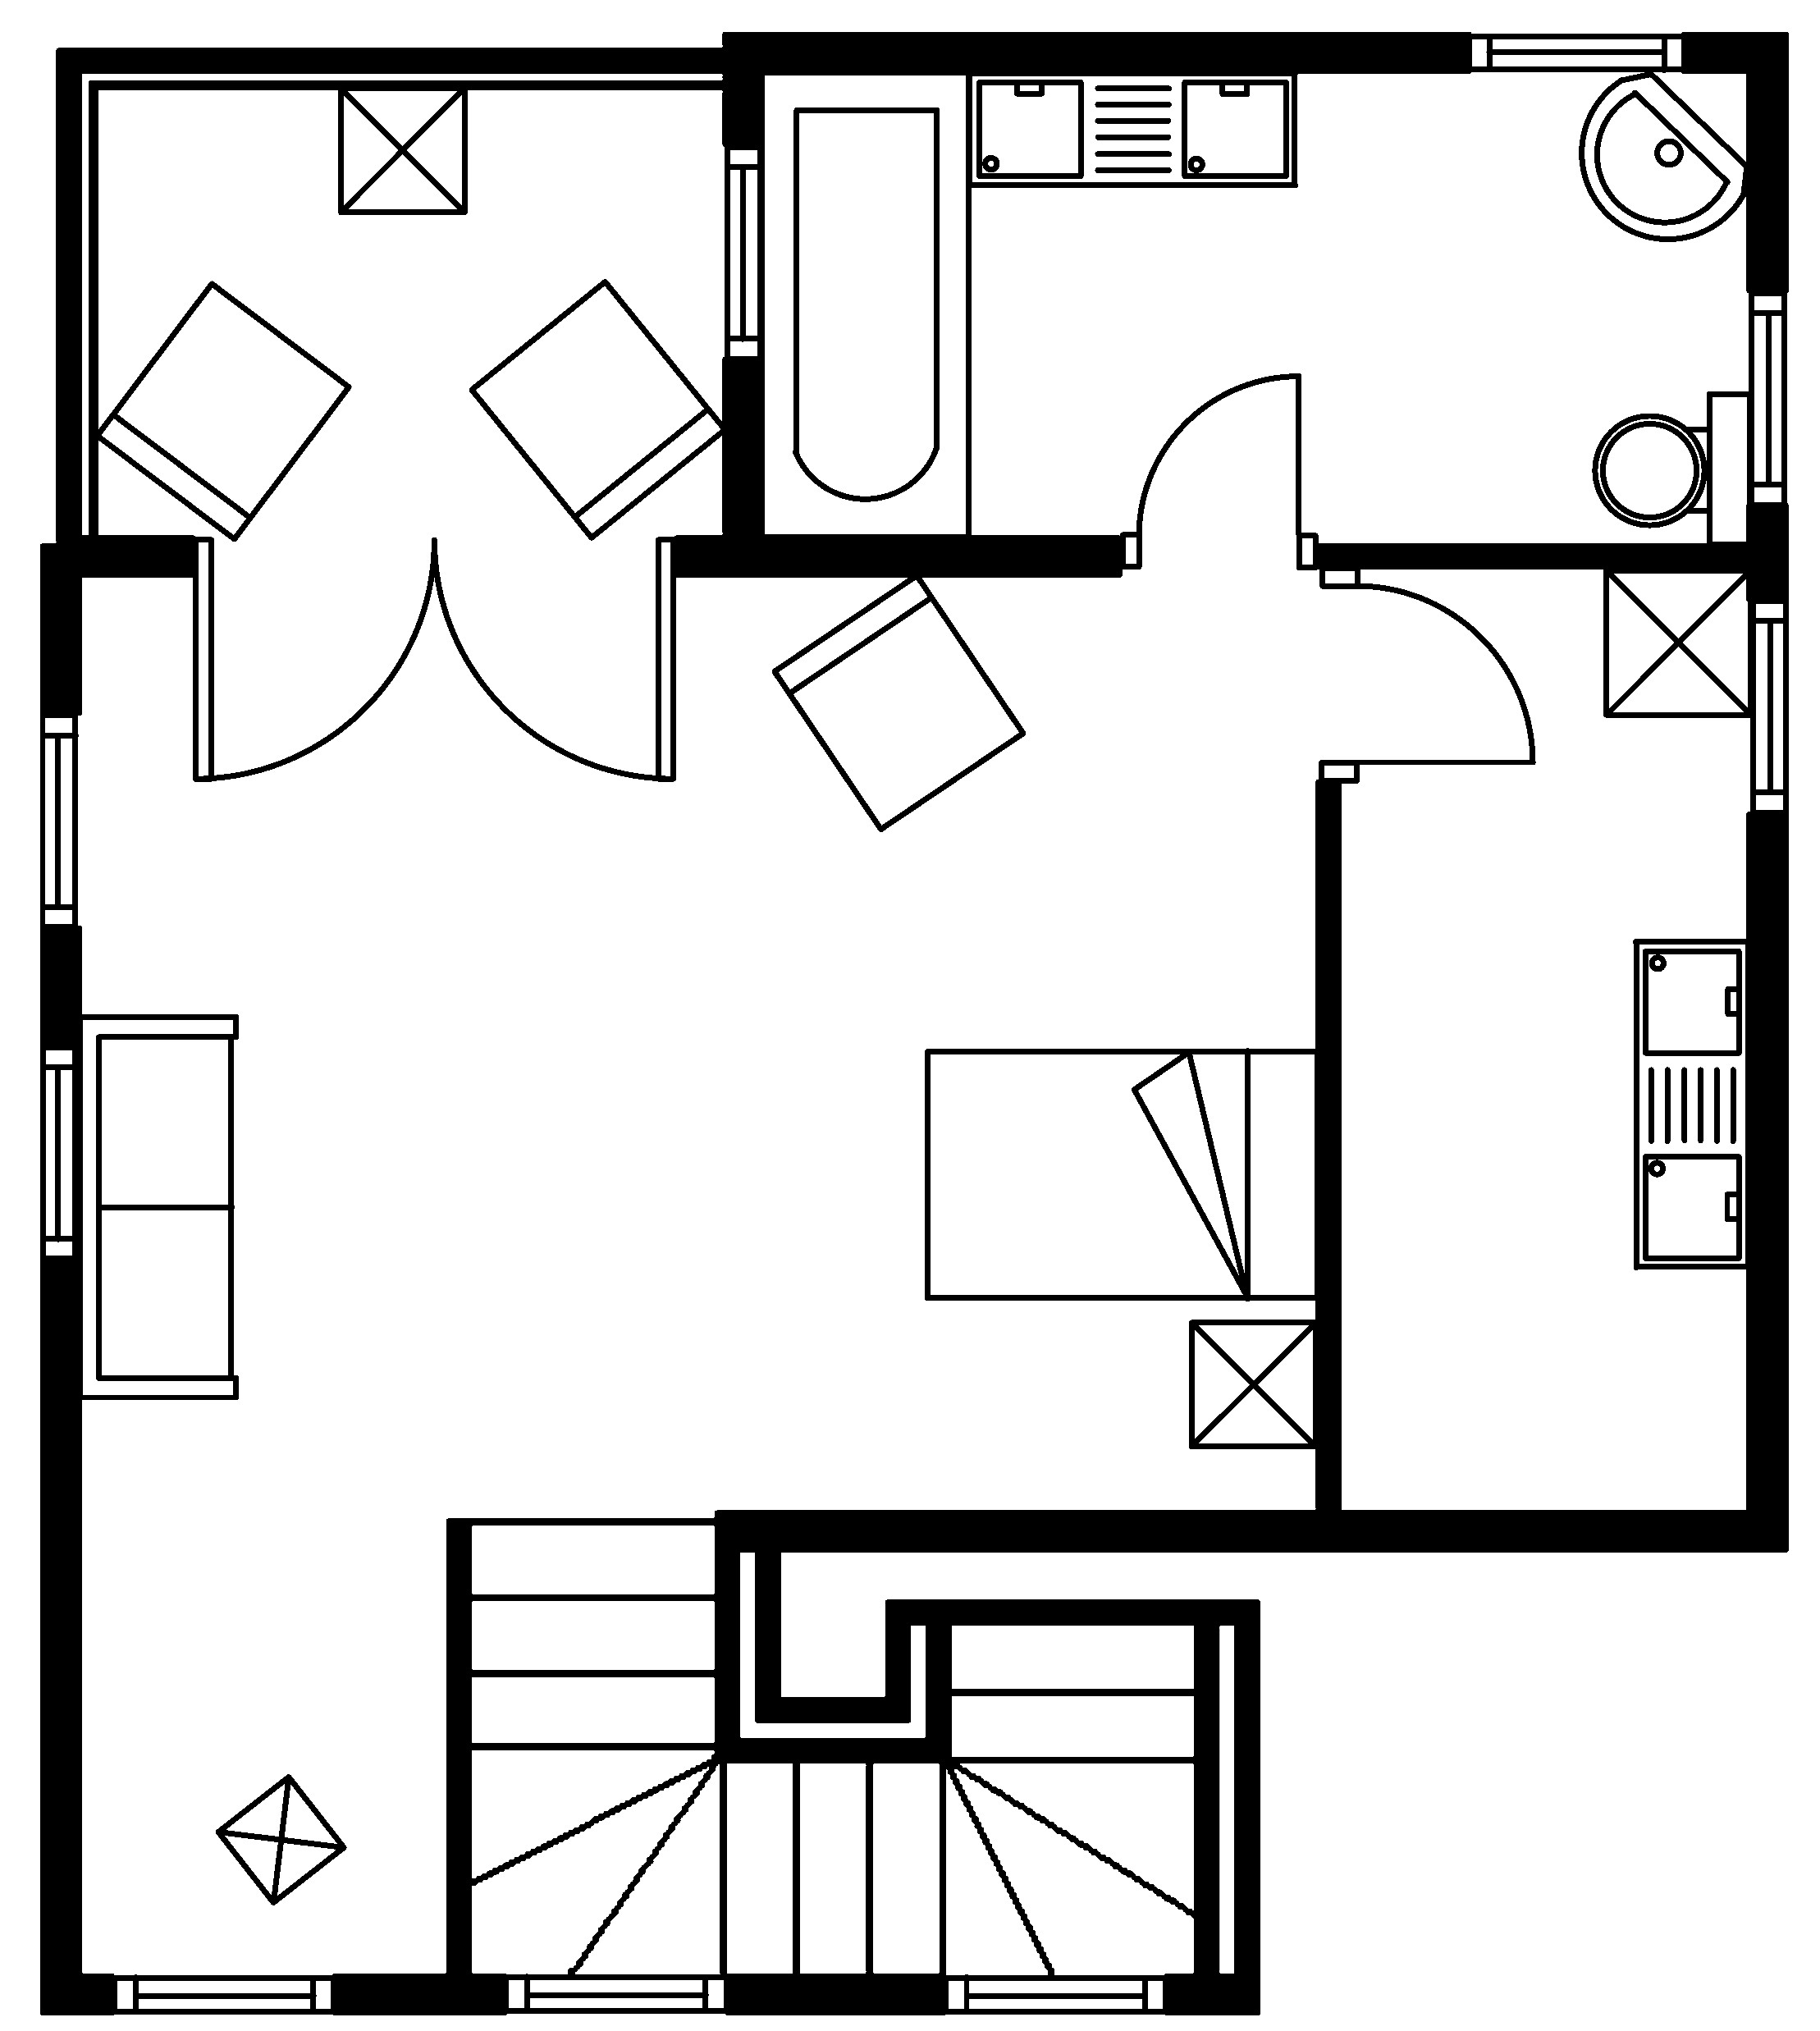bed: (922, 1047, 1321, 1302)
coffee_table: (1602, 566, 1753, 719), (213, 1773, 348, 1906), (1186, 1318, 1319, 1449), (337, 84, 467, 214)
large_sink: (1592, 388, 1753, 548)
large_sofa: (76, 1012, 239, 1400)
small_sink: (1578, 70, 1750, 241)
small_sofa: (467, 278, 727, 541), (93, 279, 351, 543), (769, 571, 1026, 833)
tub: (757, 69, 971, 539)
twin_sink: (1630, 936, 1751, 1270), (964, 69, 1298, 188)
